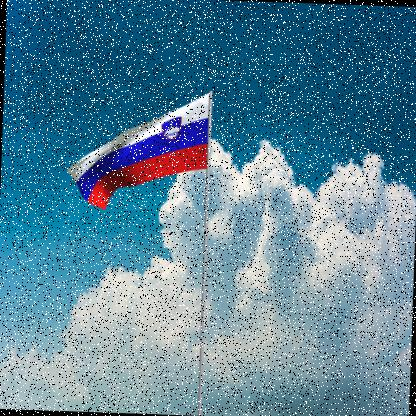si: (67, 89, 211, 216)
